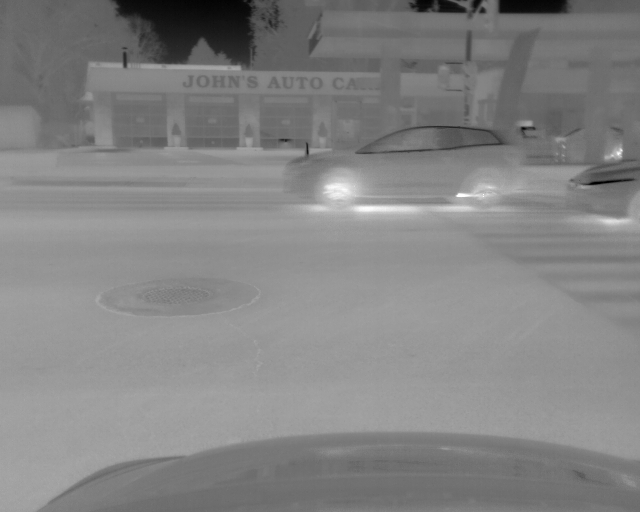car: (284, 122, 526, 210), (564, 157, 640, 221)
